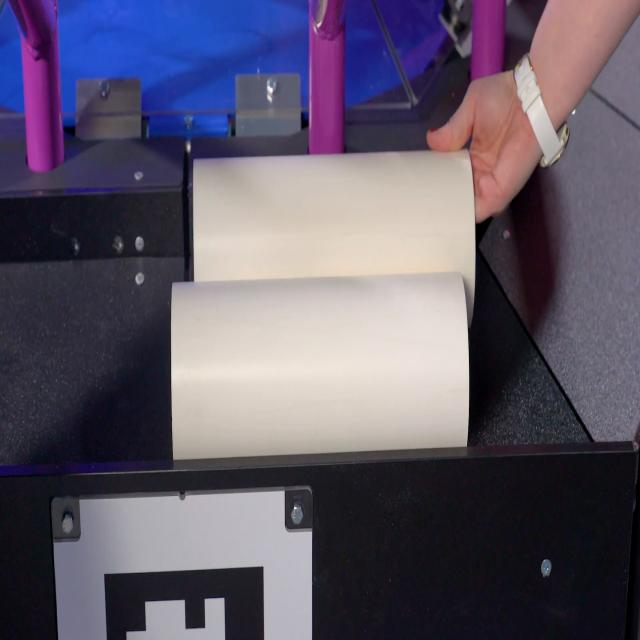Coral: (170, 271, 470, 460), (190, 147, 477, 326)
